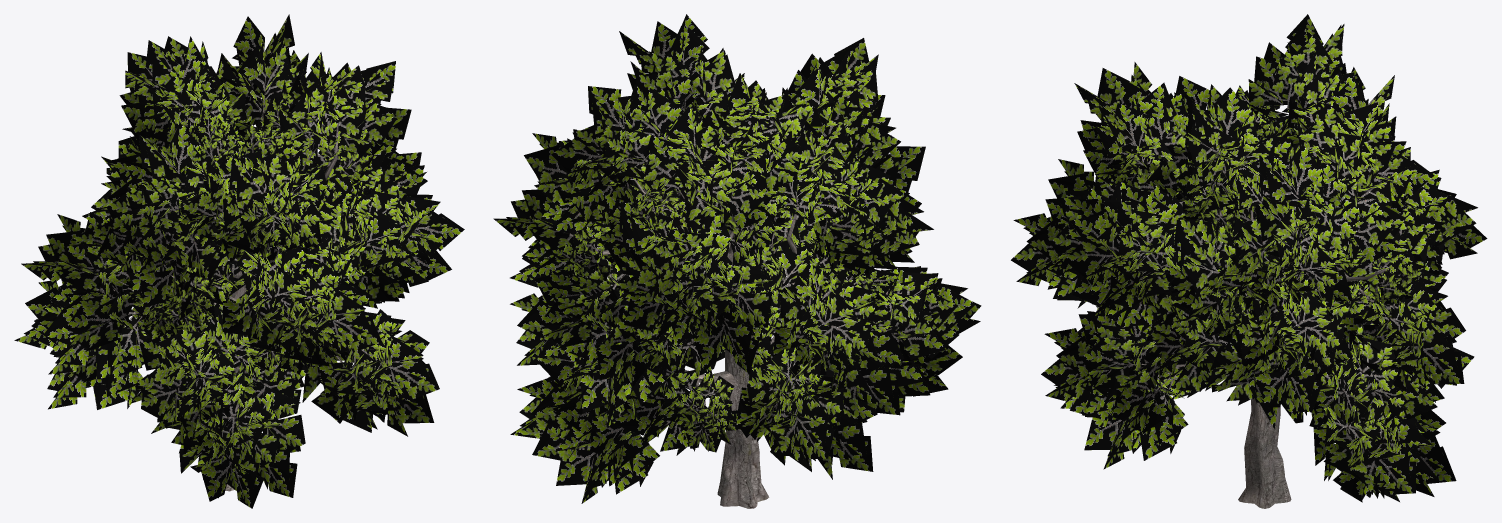
File: tree11.glb
The picture shows the model from 3 angles, left to right: view 1: azimuth 30°, elevation 25°; view 2: azimuth 150°, elevation 25°; view 3: azimuth 270°, elevation 25°; orthographic projection. The views are drawn at different scales.
Parts seen in each view (by area): view 1: Tree11; view 2: Tree11; view 3: Tree11.
Part boxes in pixels (x1,y1,x2,y2): Tree11: (14,14,464,508); Tree11: (493,14,981,508); Tree11: (1011,14,1487,508).
Bounding box in the file's own units: 5.49 × 6.02 × 5.75.
Materials: 2 (2 with a texture image).
